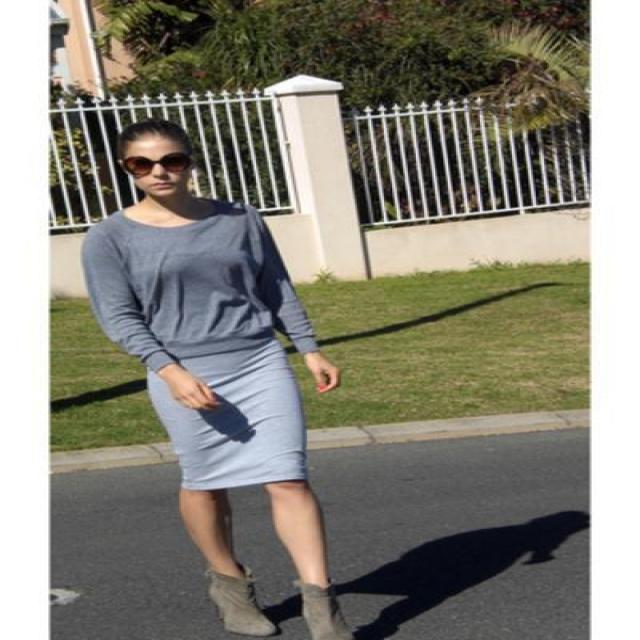dress: (76, 200, 314, 488)
shoe: (208, 572, 357, 639)
sunglass: (154, 141, 203, 179)
